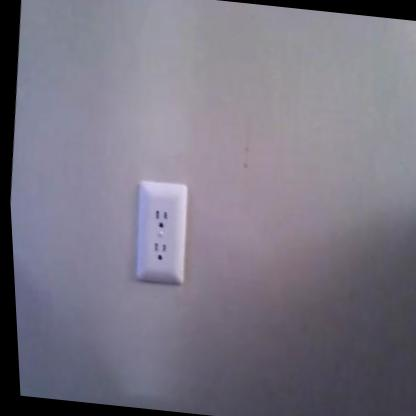OUTLET: (129, 177, 194, 285)
